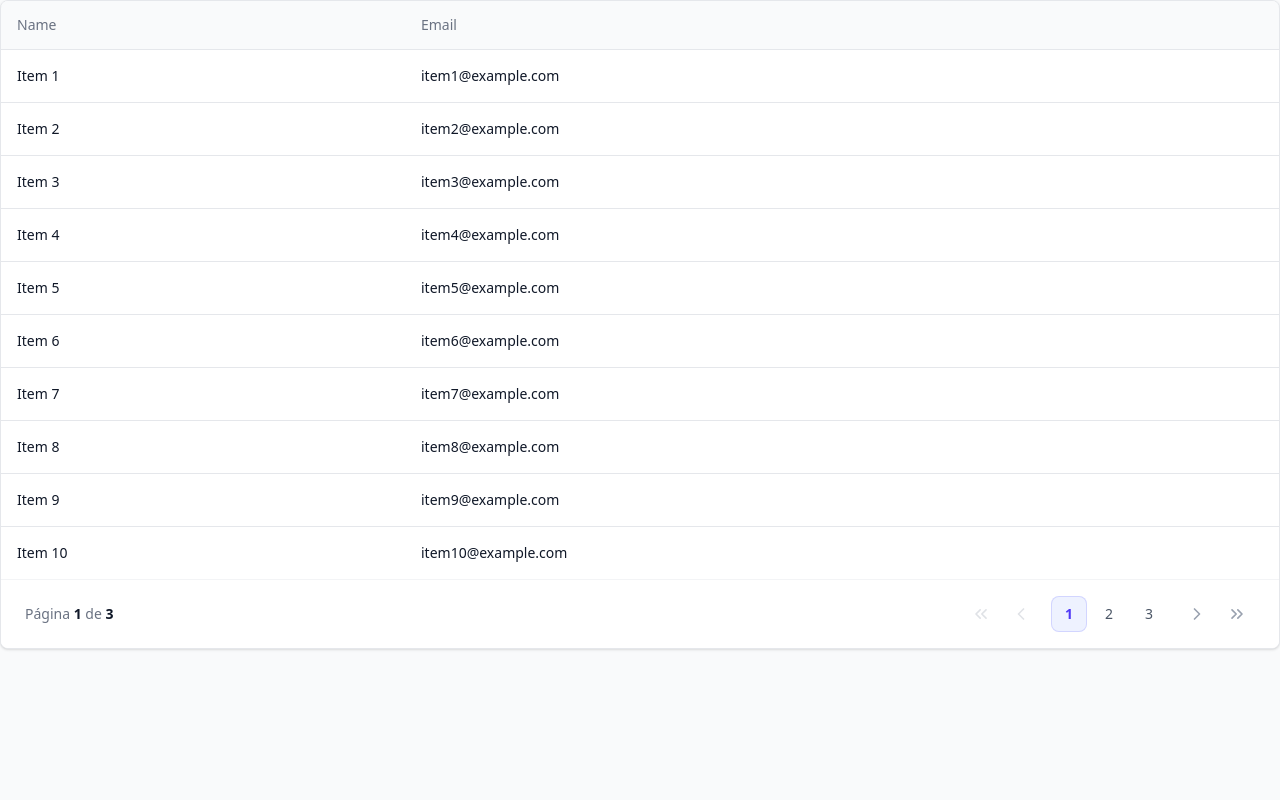
Test: DataTableWithPagination › navigates to the next page
This screenshot has width=1280, height=800.
Click the button titled "Próximo": {"x": 1197, "y": 614} [1179,596,1215,632]
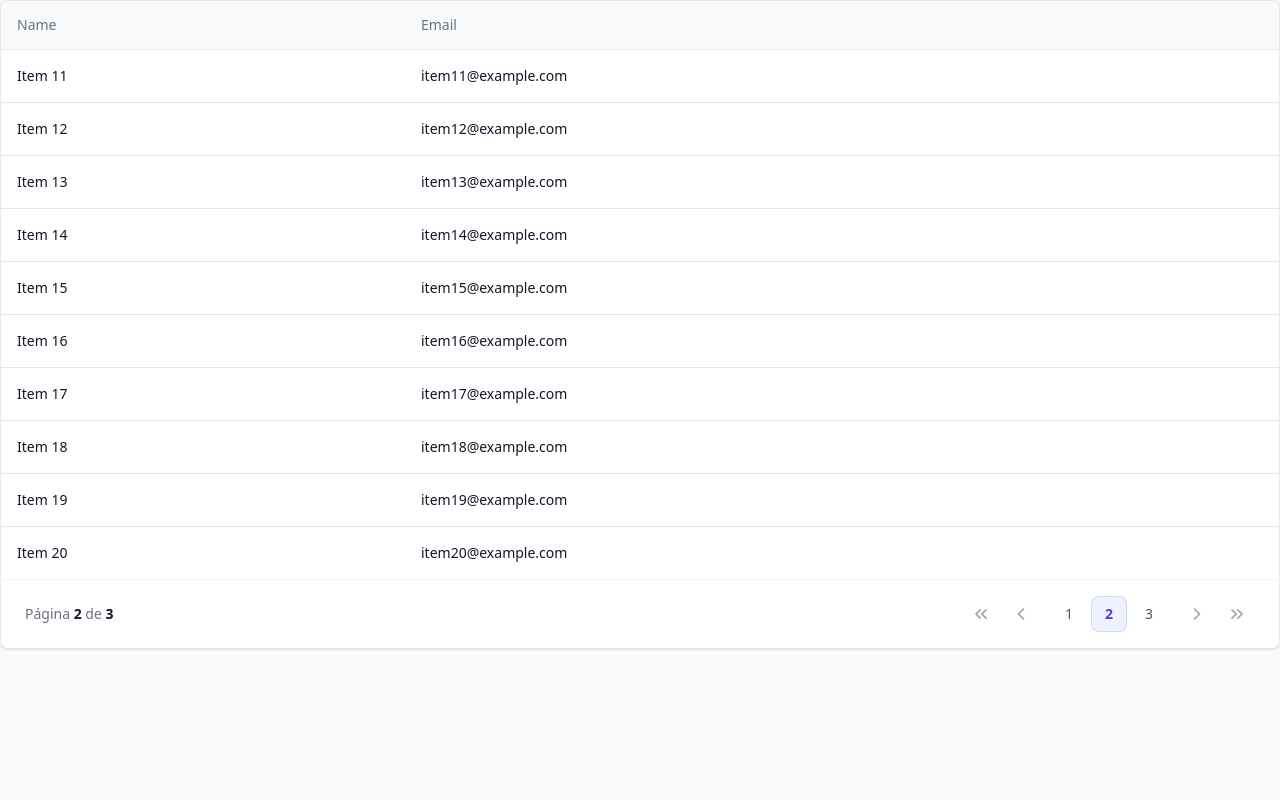
Check: the text "Item 10" is gone
Check: the text "Item 11" is shown, box [1,49,405,102]
Check: the text "Item 20" is shown, box [1,526,405,578]
